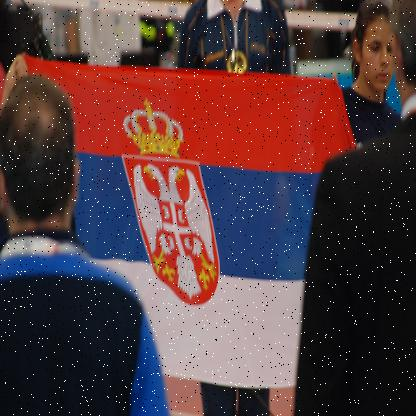rs: (22, 53, 358, 389)
